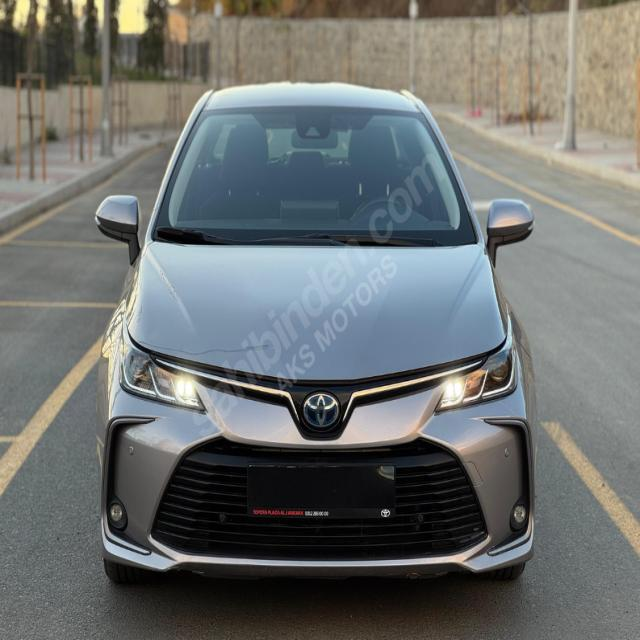toyota: (300, 387, 345, 432)
